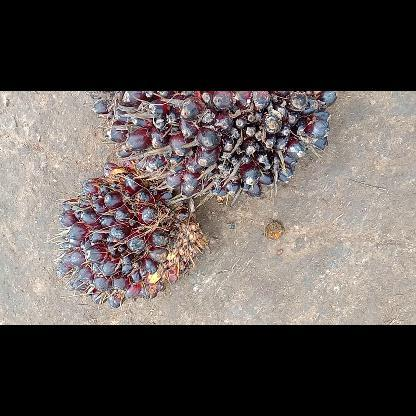TBS mentah: (86, 92, 340, 198), (56, 161, 214, 307)
